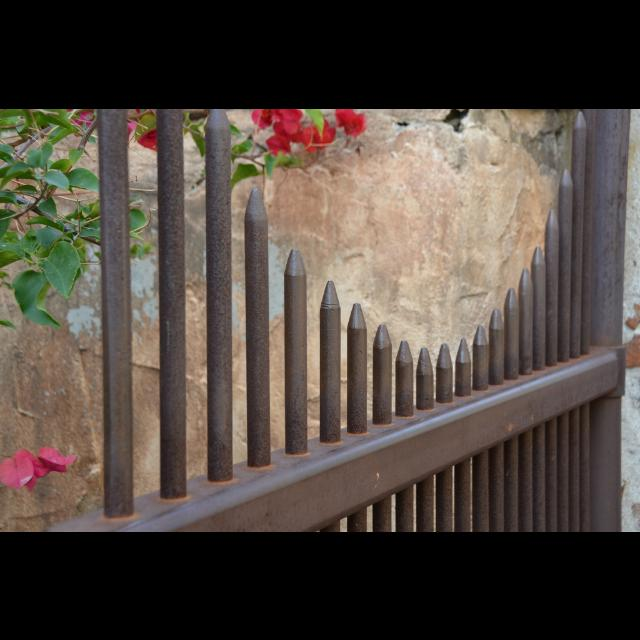Flower: (254, 108, 368, 154), (6, 447, 70, 495), (66, 108, 95, 136), (136, 128, 160, 152), (127, 108, 143, 142)
